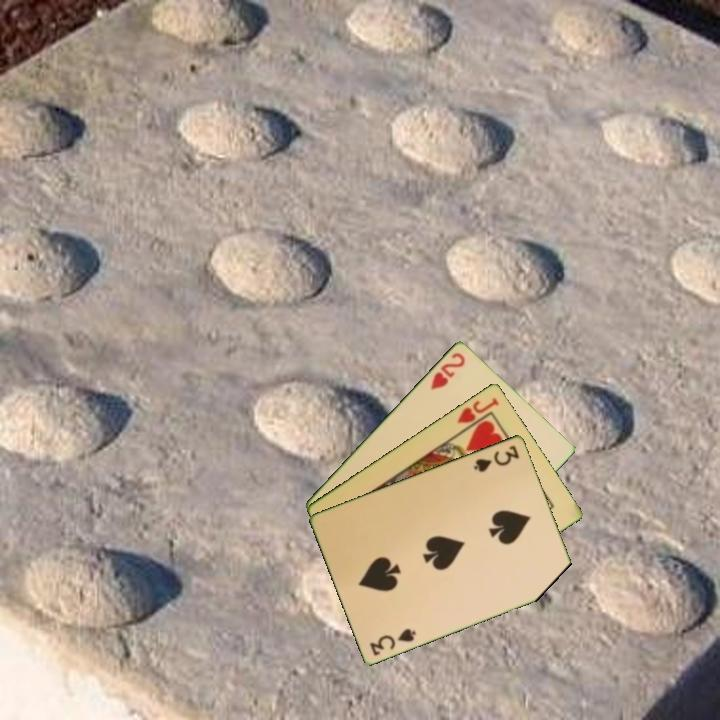2h: (427, 349, 468, 392)
3s: (366, 624, 419, 658), (470, 441, 522, 475)
Jh: (453, 393, 502, 426)
